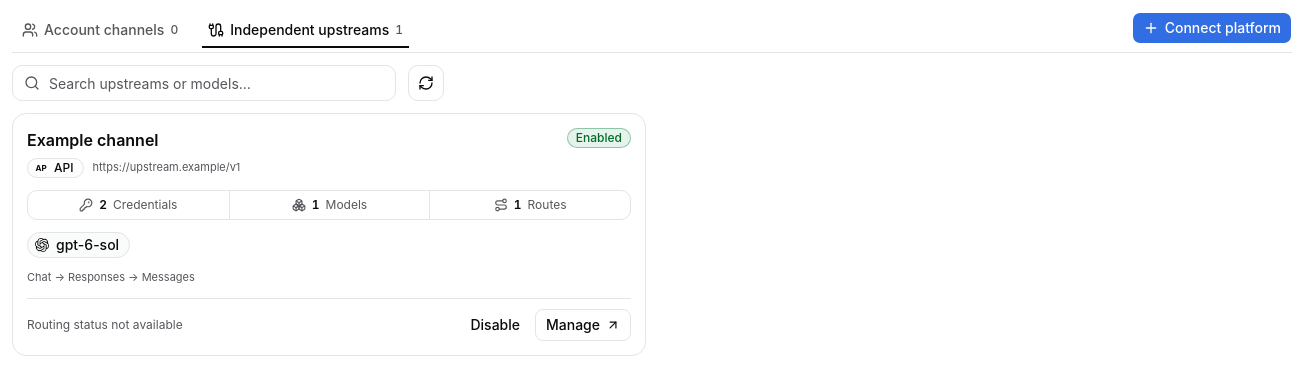
Test: imported upstream inventory › reads back availability after a confirmed update
Click the button with aria-label "Disable Example channel". click: [495, 325]
box: top-left (460, 309), bottom-right (531, 341)
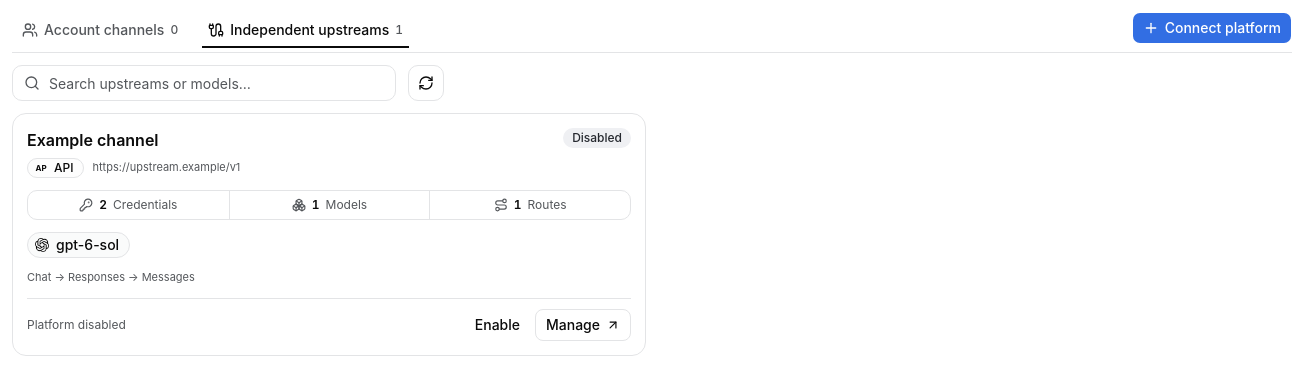
Expected: the button with aria-label "Enable Example channel" is shown, top-left (464, 309), bottom-right (531, 341)
